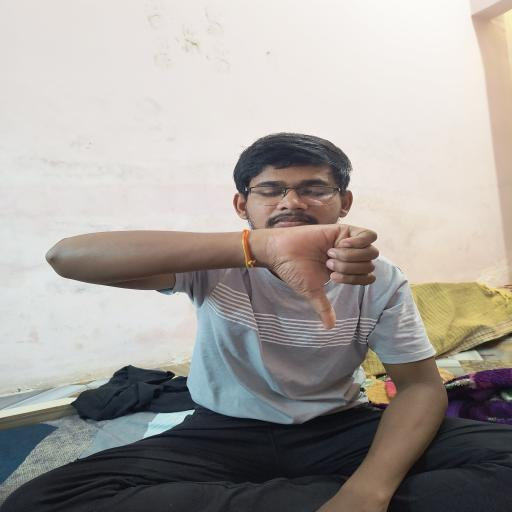Continue: (260, 212, 387, 336)
